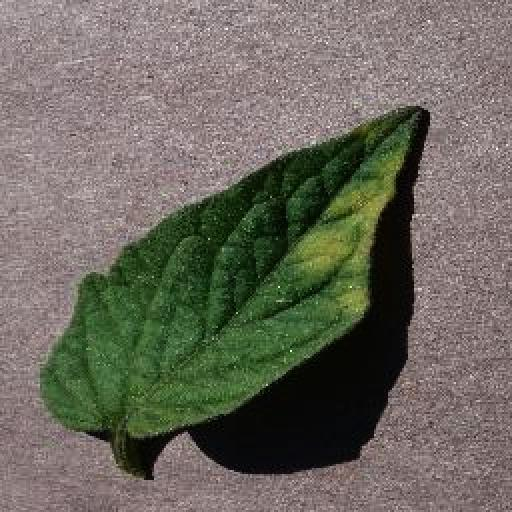disease_tomato: (38, 104, 427, 438)
